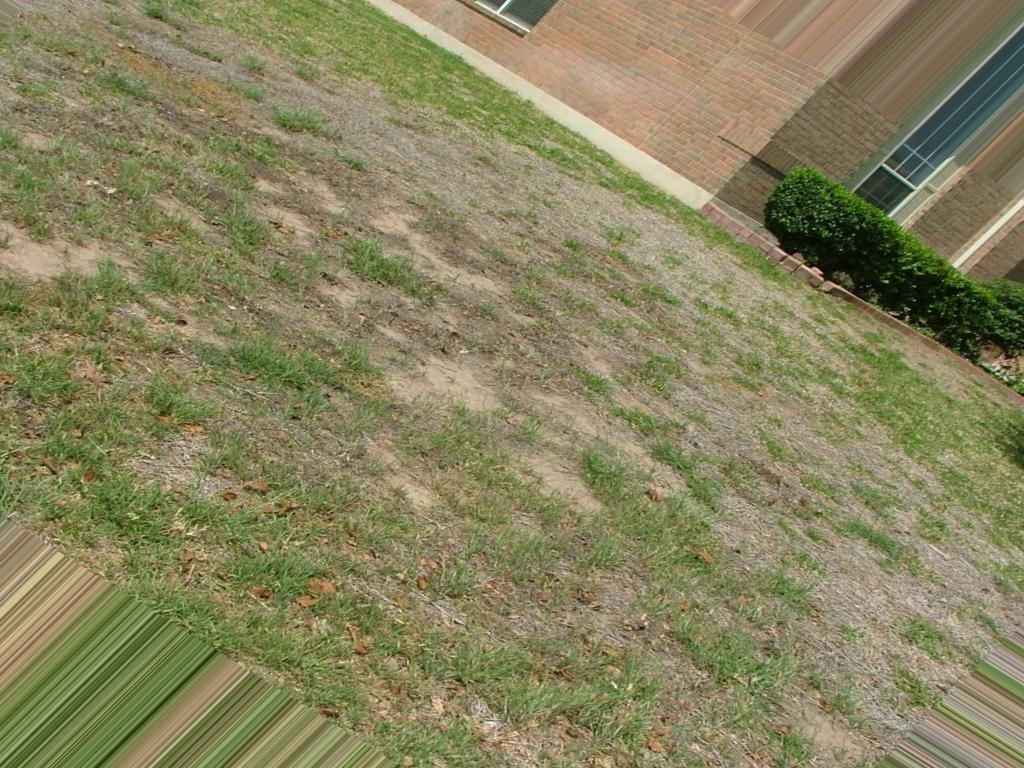patch: (246, 82, 719, 276), (769, 501, 969, 653), (633, 341, 847, 480), (384, 472, 523, 577), (352, 314, 489, 418), (146, 412, 236, 498)
